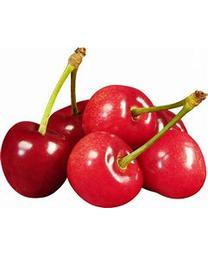cherry: (65, 130, 143, 208), (0, 118, 71, 199), (81, 85, 159, 150), (139, 130, 205, 199), (47, 99, 102, 162)
